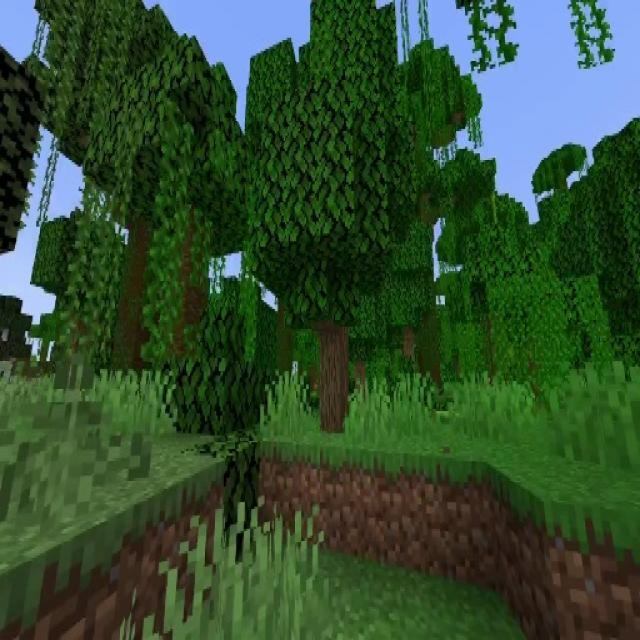jungle_log: (110, 227, 158, 376)
oak_log: (318, 332, 350, 433)
